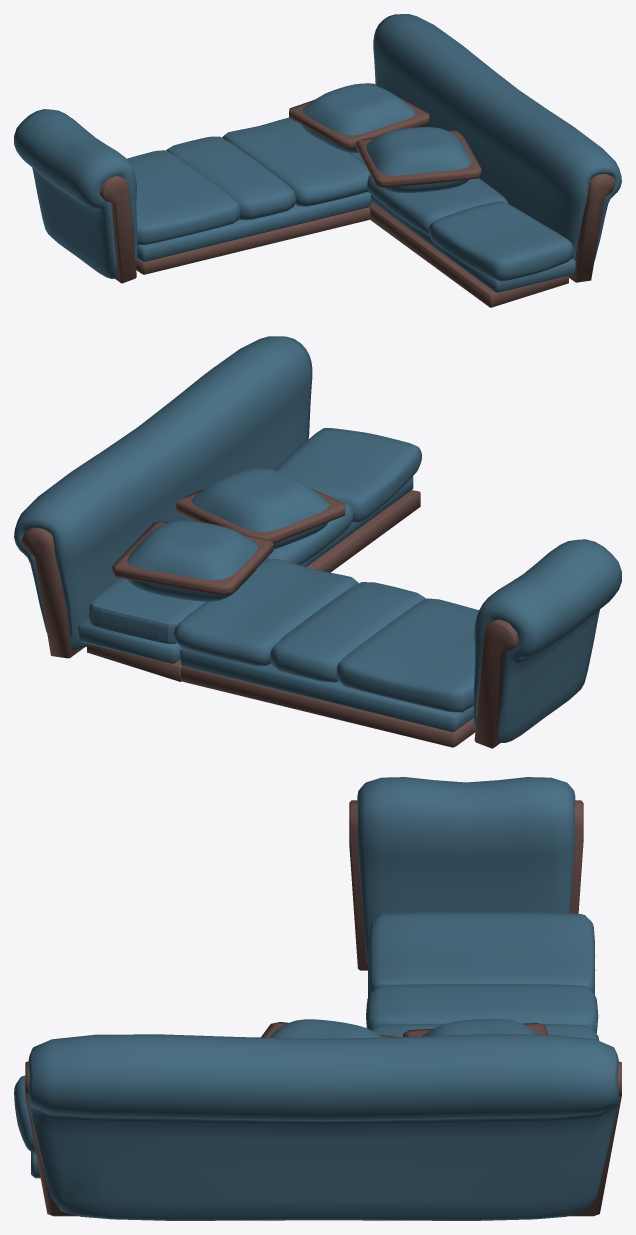
Rendered from luigi_sofa.fbx.
The picture shows the model from 3 angles, top to bottom: view 1: azimuth 30°, elevation 25°; view 2: azimuth 150°, elevation 25°; view 3: azimuth 270°, elevation 25°; orthographic projection. The views are drawn at different scales.
Visible parts, largest first — view 1: Cube.004; view 2: Cube.004; view 3: Cube.004.
Part boxes in pixels (bbox=[...]): Cube.004: bbox=[14, 14, 621, 307]; Cube.004: bbox=[14, 336, 621, 748]; Cube.004: bbox=[14, 777, 621, 1220].
Bounding box in the file's own units: 319 × 93.98 × 280.
